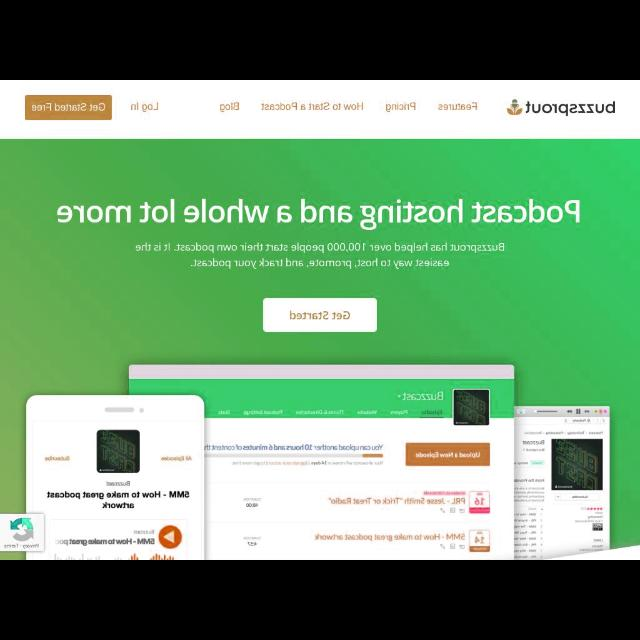image: (27, 365, 513, 559), (516, 407, 608, 559), (506, 101, 616, 117)
text: (56, 200, 582, 226), (134, 242, 506, 268), (260, 101, 364, 113), (32, 103, 104, 115), (288, 312, 349, 321), (438, 102, 478, 112), (386, 102, 416, 112), (132, 102, 158, 111), (221, 101, 239, 112)
textbutton: (264, 300, 376, 330), (24, 95, 111, 118)
toolbar: (1, 81, 639, 139)
